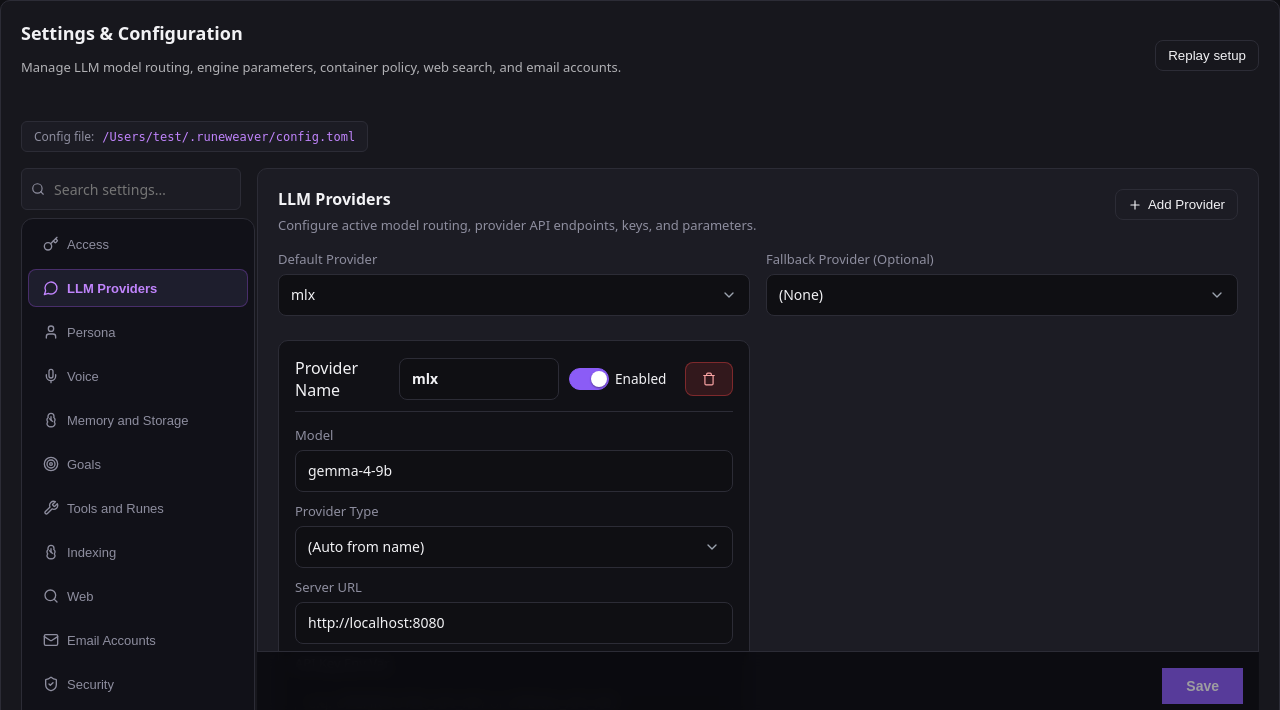
SettingsManager search › reads running as a single Stop toggle
expect the field showing "gemma-4-9b" is shown: met, box [295,450,733,492]
What coordinates should you click on to do the following:
click the tab "Web"
I would click on:
 (138, 596)
Its box is [28,577,248,615].
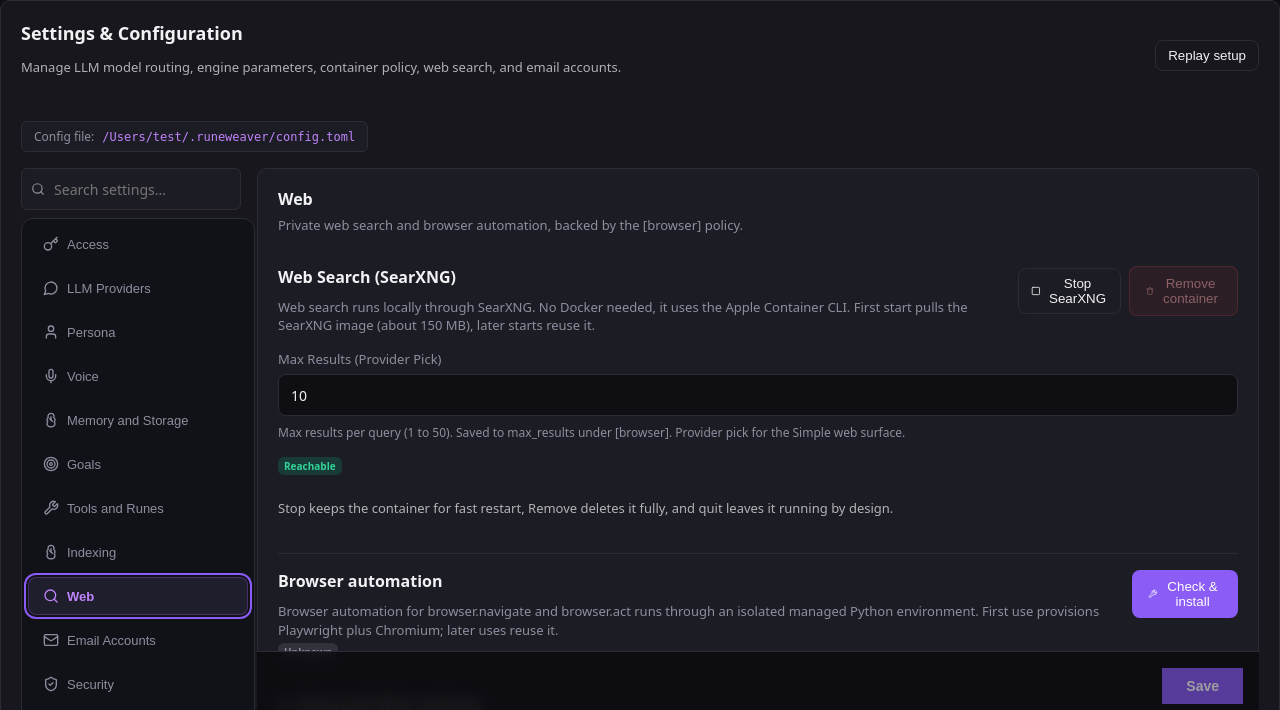
expect the button "Stop SearXNG" is shown: met, box [1018,268,1121,314]
expect the button "Stop SearXNG" is enabled: met, box [1018,268,1121,314]
